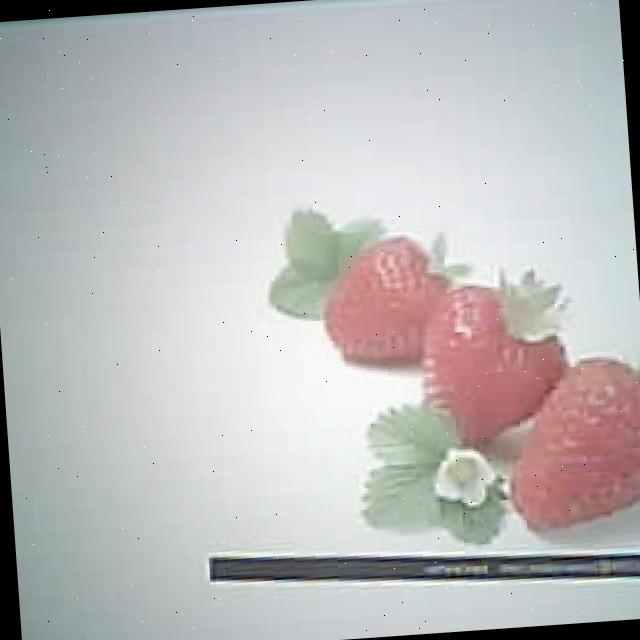strawberry: (415, 280, 574, 452), (503, 354, 640, 528), (319, 234, 451, 365)
